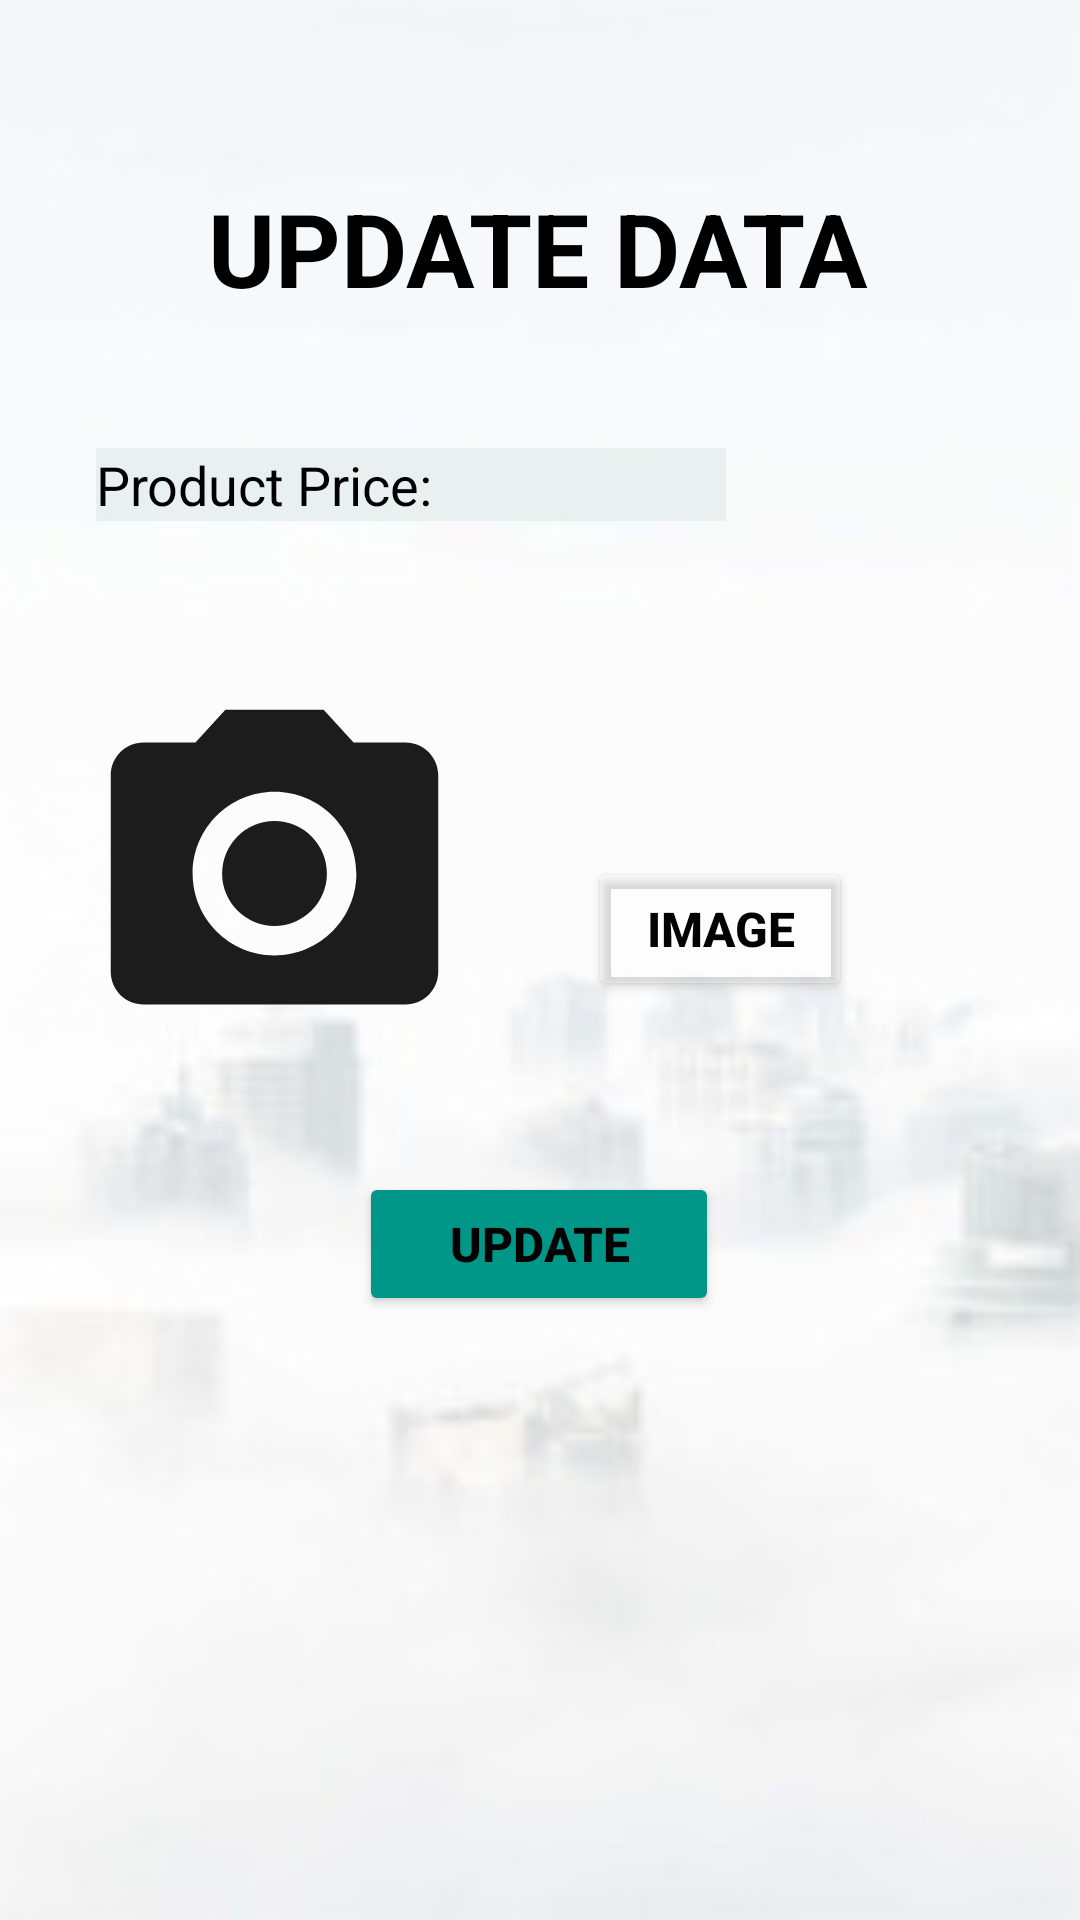

Icons on this 1080 x 1920 Android screen, each with the point to tap as [x,y]:
photo camera: [274,857]
